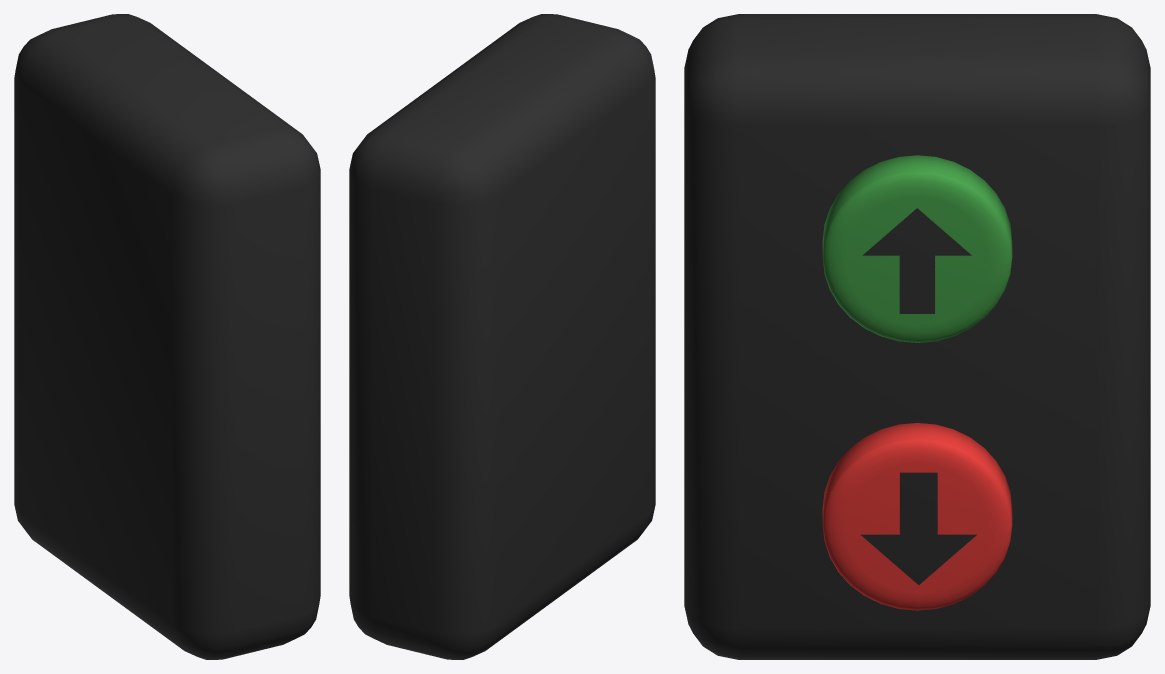
Rendered from BotonesElevador.fbx.
3 renders of one model, left to right at view 1: azimuth 30°, elevation 25°; view 2: azimuth 150°, elevation 25°; view 3: azimuth 270°, elevation 25°, orthographic. The views are drawn at different scales.
Visible parts, largest first — view 1: CajaNegra; view 2: CajaNegra; view 3: CajaNegra, BotonArriba, BotonAbajo.
Boxes of the visible parts, x1,y1,x2,y2 form: CajaNegra: (14, 14, 320, 659); CajaNegra: (349, 14, 655, 659); CajaNegra: (684, 14, 1150, 659); BotonArriba: (822, 155, 1012, 342); BotonAbajo: (822, 423, 1012, 610).
Bounding box in the file's own units: 72.23 × 200 × 141.
3 materials, 2 textured.
